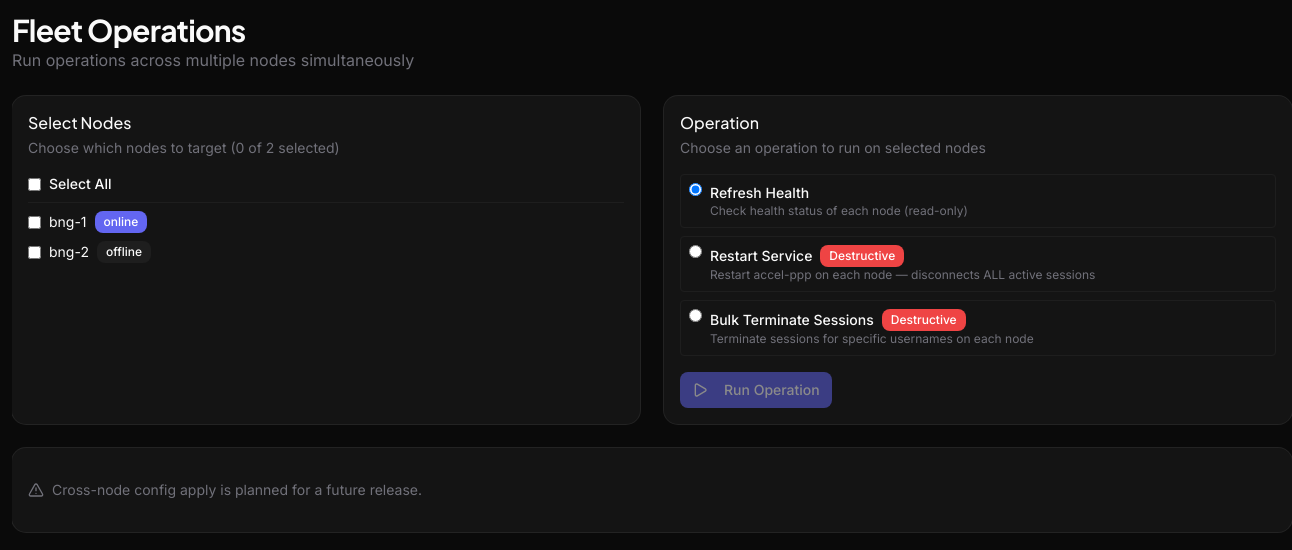
Test case: OperationsManager › select all / deselect all works
Check: the text "bng-1" is shown, box [49, 212, 87, 232]
Click the checkbox named "Select all nodes".
click(34, 184)  # box [28, 178, 41, 190]
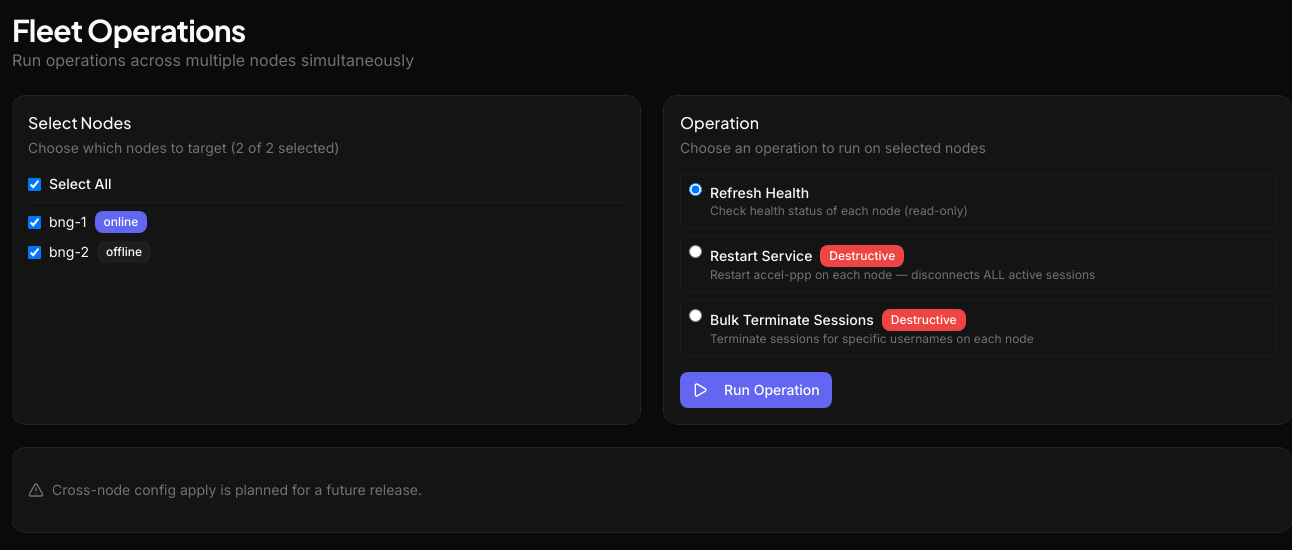
Check: the checkbox named "Select bng-1" is checked, box [28, 216, 41, 228]
Check: the checkbox named "Select bng-2" is checked, box [28, 246, 41, 258]
Note: Deselect all
Click the checkbox named "Select all nodes".
click(34, 184)  # box [28, 178, 41, 190]
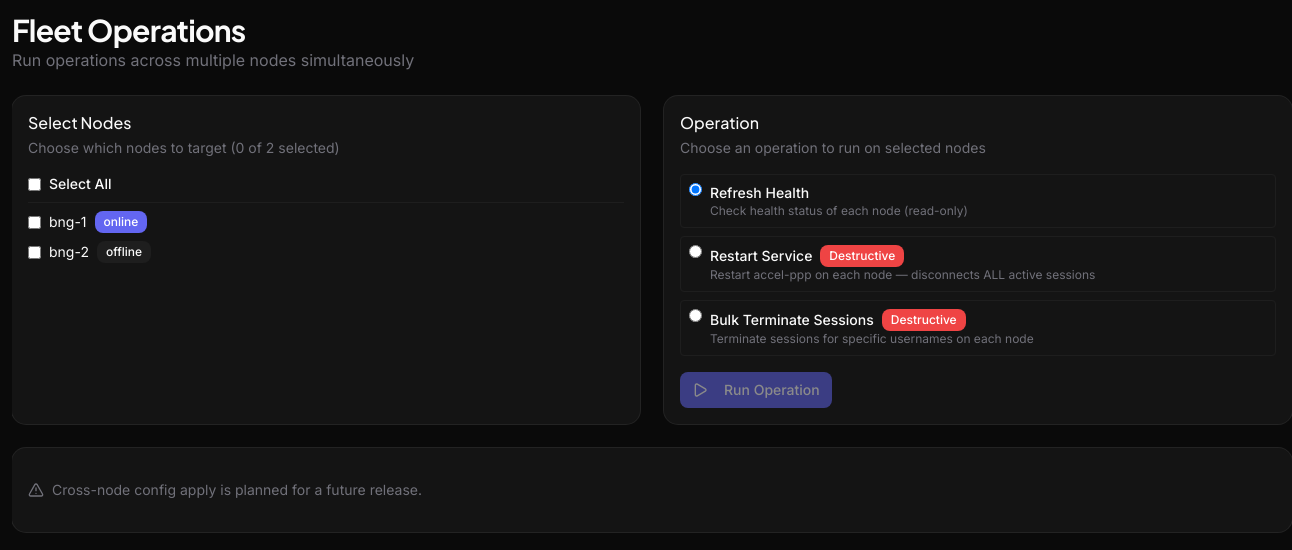
Check: the checkbox named "Select bng-1" is not checked, box [28, 216, 41, 228]
